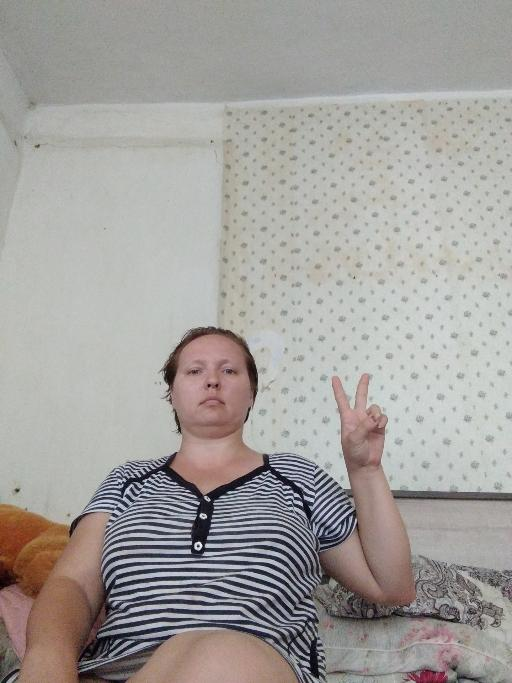peace: (328, 370, 389, 471)
